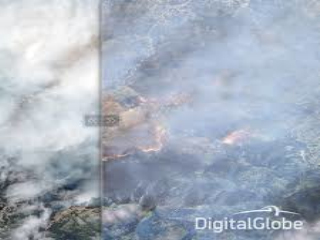fire: (102, 89, 182, 157), (220, 129, 259, 147)
smoke: (4, 10, 96, 218), (184, 33, 308, 124)
